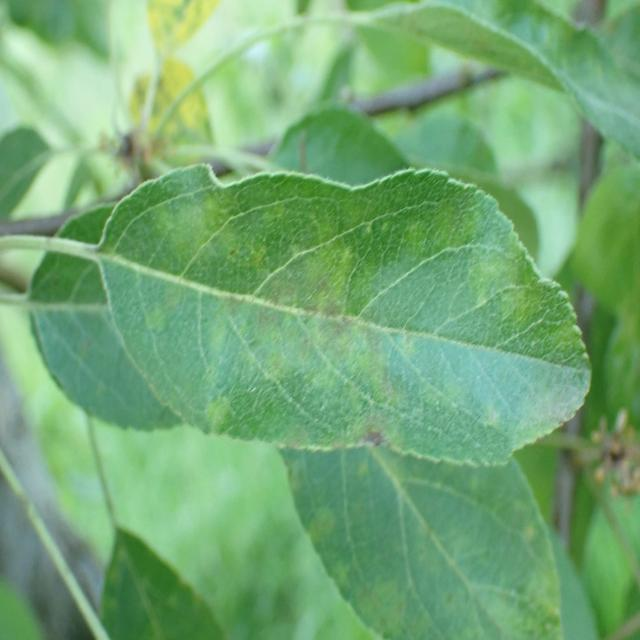scab: (77, 179, 572, 445)
